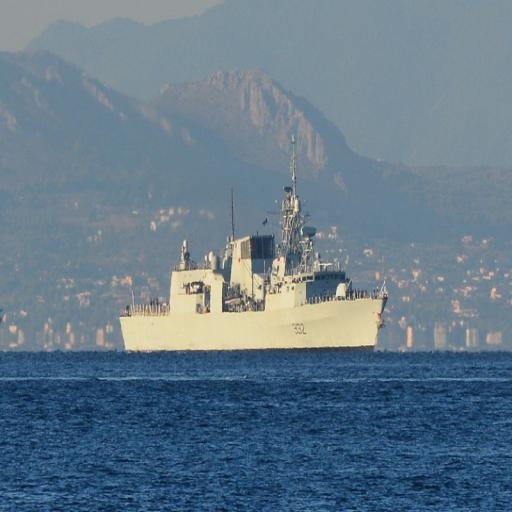Fragata: (116, 124, 390, 359)
